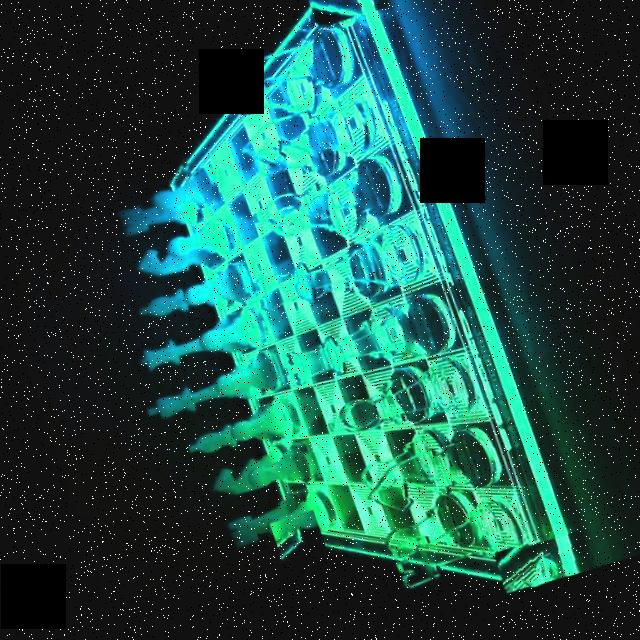chess-table-corners: (483, 528, 594, 598), (134, 152, 202, 224), (260, 511, 318, 565), (301, 0, 393, 31)
